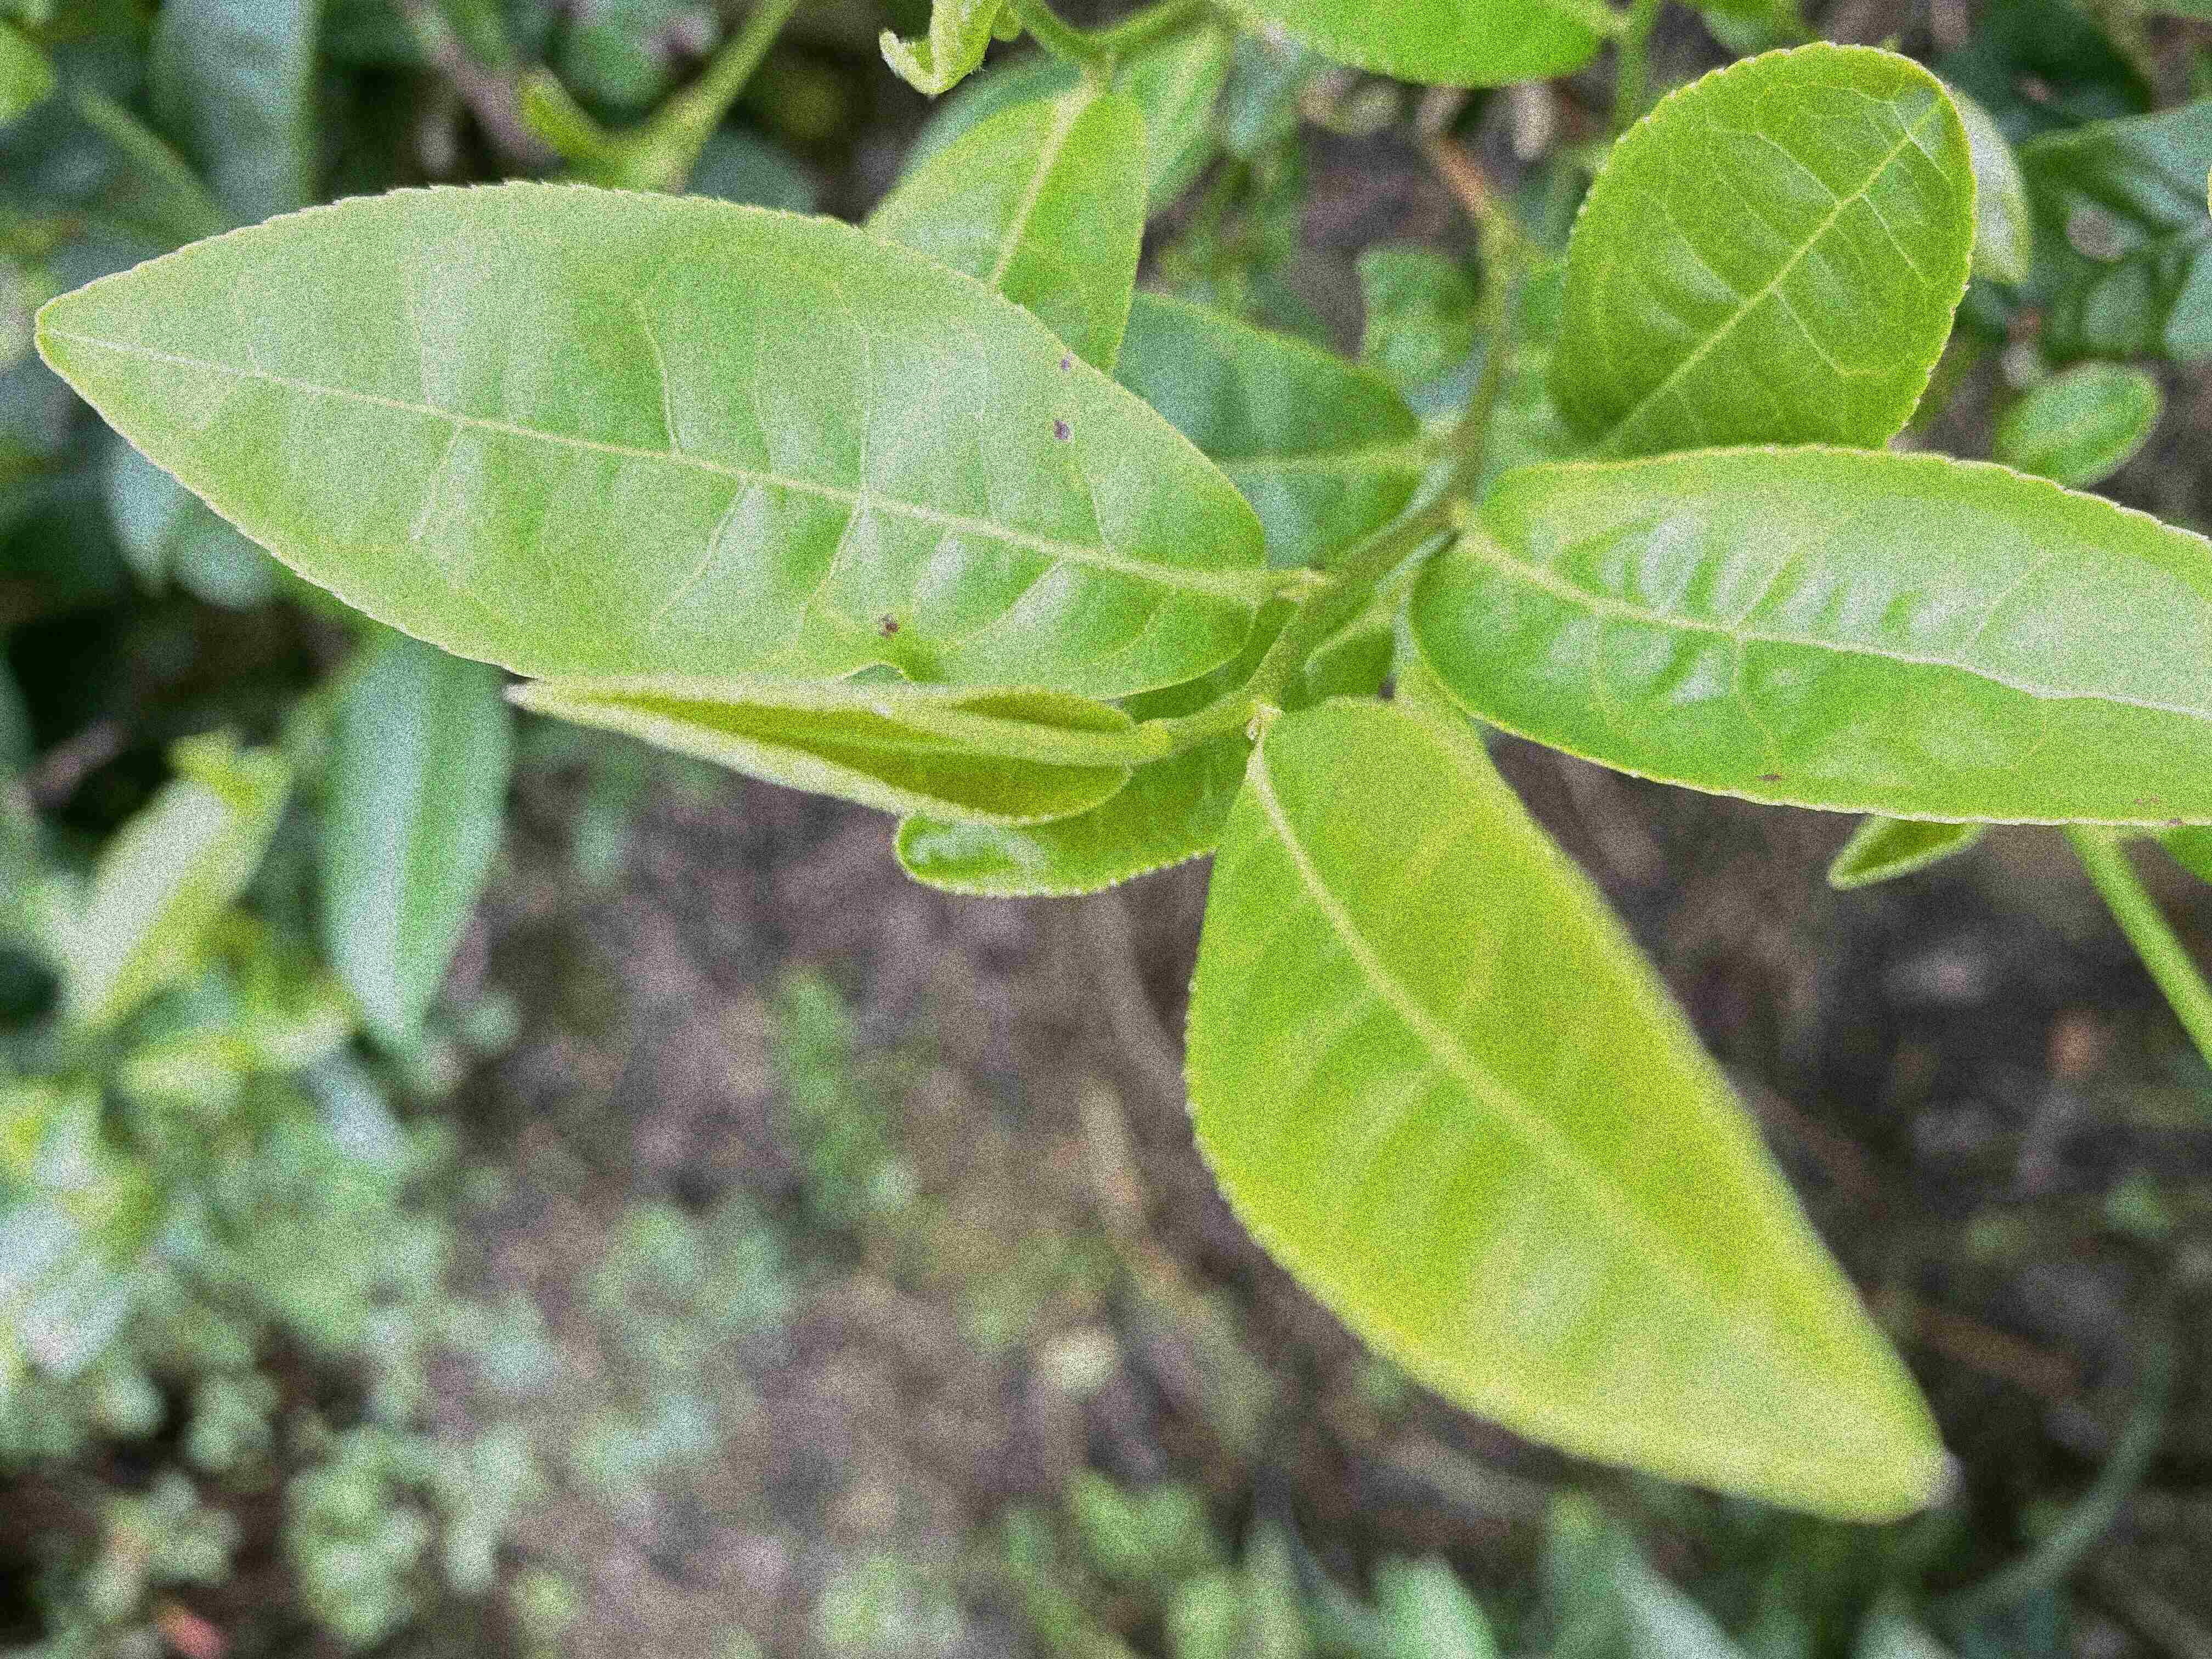healthy: (1186, 708, 1946, 1520), (1545, 42, 1979, 469)
tanju_low: (30, 179, 1266, 699), (1411, 446, 2207, 831)
